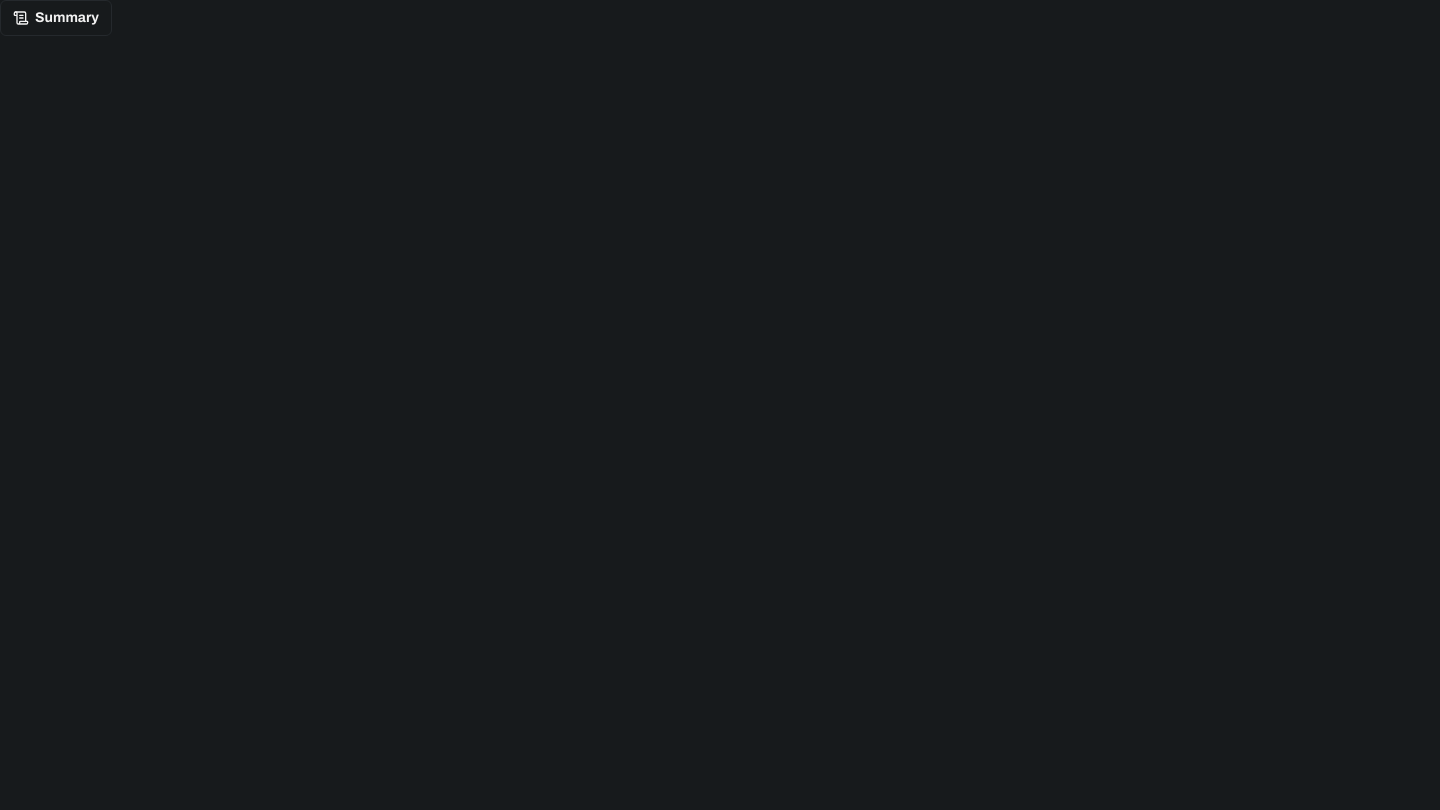
Test case: the Summary dialog › a new game with nobody in it yet still says nothing has happened
The width and height of the screenshot is (1440, 810).
Click the button "Summary" at (56, 18), box [0, 0, 112, 36]
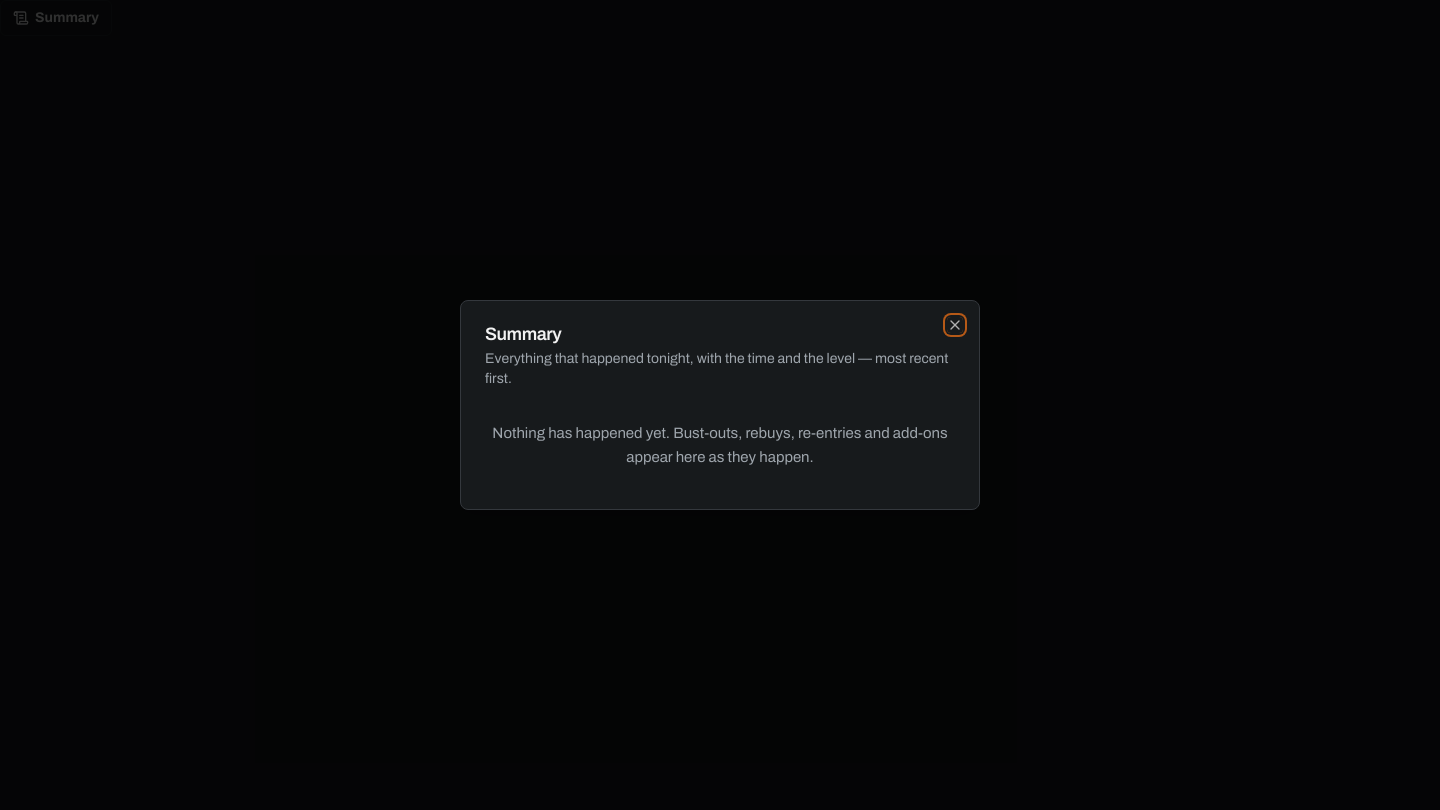
Check: the text "Nothing has happened yet" is shown, box [492, 425, 948, 465]
